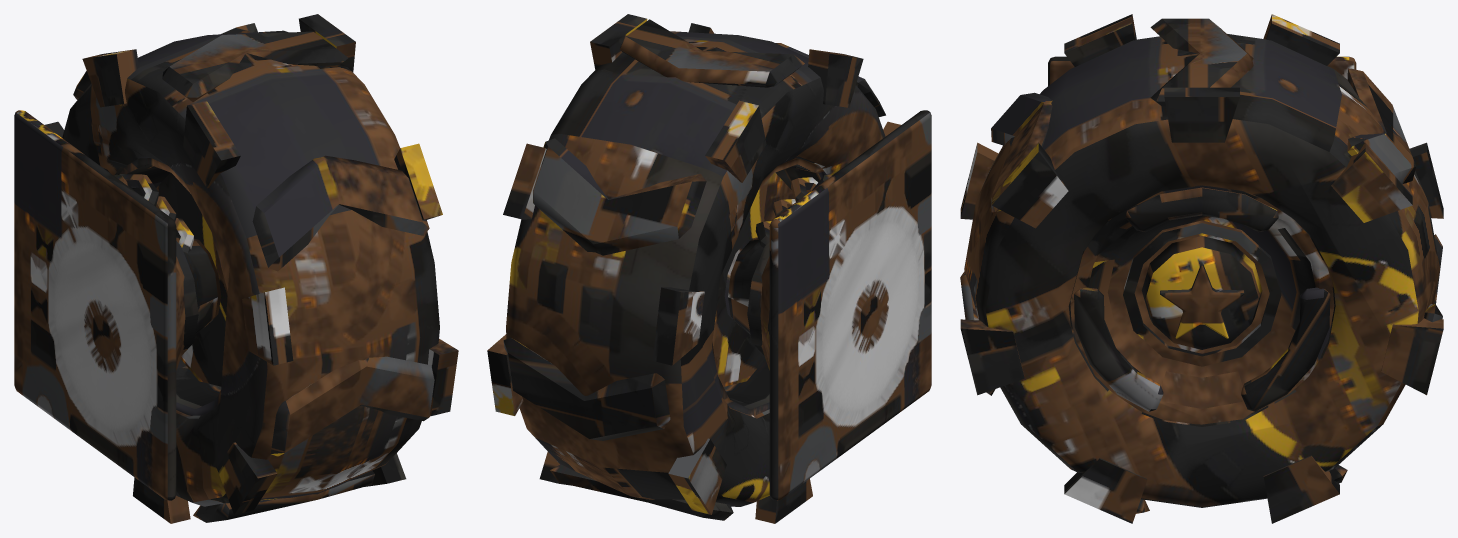
Rendered from R4M_WheelM_Side_Offroad_LOD1.fbx.
3 views of the same model, side by side, from view 1: azimuth 30°, elevation 25°; view 2: azimuth 150°, elevation 25°; view 3: azimuth 270°, elevation 25° (orthographic).
Parts seen in each view (by area): view 1: R4M_WheelM_Side_Offroad_LOD1; view 2: R4M_WheelM_Side_Offroad_LOD1; view 3: R4M_WheelM_Side_Offroad_LOD1.
Boxes of the visible parts, x1=… form: R4M_WheelM_Side_Offroad_LOD1: x1=14, y1=14, x2=458, y2=523; R4M_WheelM_Side_Offroad_LOD1: x1=487, y1=14, x2=931, y2=523; R4M_WheelM_Side_Offroad_LOD1: x1=960, y1=14, x2=1443, y2=523.
Bounding box in the file's own units: 0.451 × 0.76 × 0.7682.
